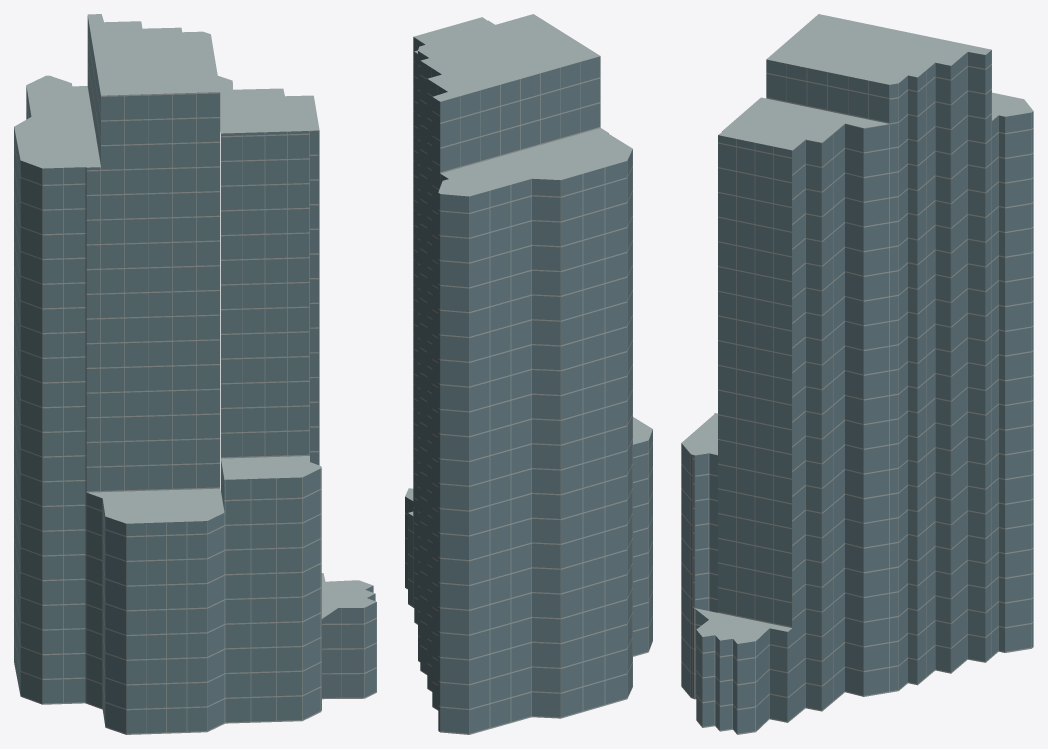
Rendered from tour-total-coupole-far.glb.
3 views of the same model, side by side, from view 1: azimuth 30°, elevation 25°; view 2: azimuth 150°, elevation 25°; view 3: azimuth 270°, elevation 25° (orthographic).
Parts seen in each view (by area): view 1: tour-total-coupole-0-glass, tour-total-coupole-0-roof, tour-total-coupole-0-frame; view 2: tour-total-coupole-0-glass, tour-total-coupole-0-frame, tour-total-coupole-0-roof; view 3: tour-total-coupole-0-glass, tour-total-coupole-0-frame, tour-total-coupole-0-roof.
Part boxes in pixels (x1,y1,x2,y2): tour-total-coupole-0-glass: (14,16,376,733); tour-total-coupole-0-roof: (14,14,376,618); tour-total-coupole-0-frame: (14,37,376,734); tour-total-coupole-0-glass: (405,37,652,733); tour-total-coupole-0-frame: (405,37,652,734); tour-total-coupole-0-roof: (405,14,652,515); tour-total-coupole-0-glass: (681,50,1033,733); tour-total-coupole-0-frame: (681,50,1033,734); tour-total-coupole-0-roof: (682,14,1032,643).
Size of the model in its own units: 91.9 by 187 by 98.2.
